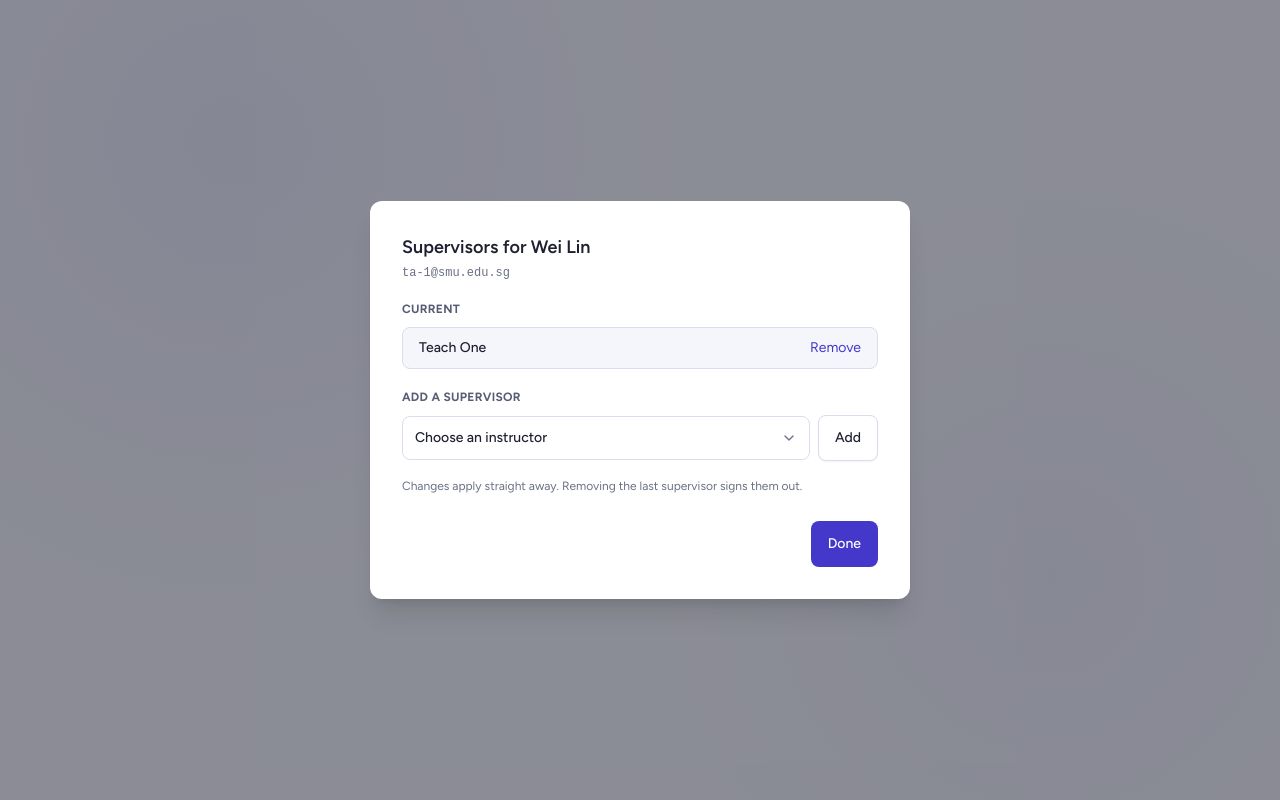
Scenario: SupervisorsDialog › never swallows an Add press: with nothing picked it says so
The image size is (1280, 800).
Click the button "Add" at (848, 438), box [818,415,878,461]
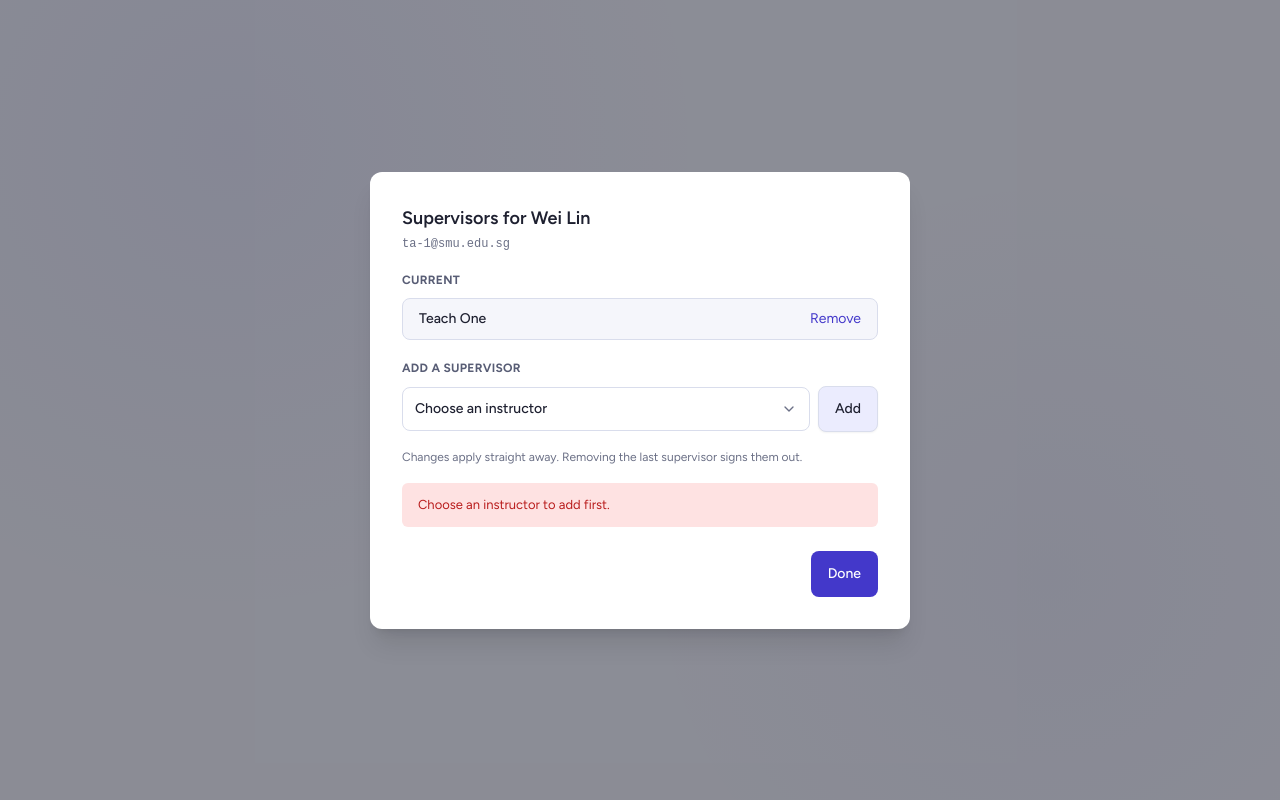
Check: the message reads "Choose an instructor to add first.", box [418,497,610,512]
